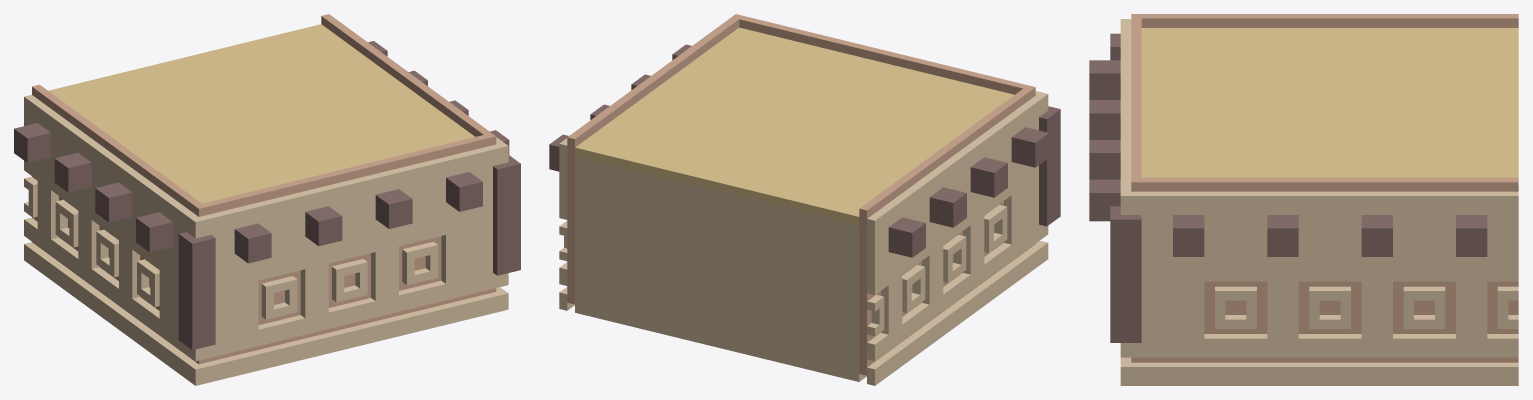
File: BS_Block_Base_End.fbx
3 renders of one model, left to right at view 1: azimuth 30°, elevation 25°; view 2: azimuth 150°, elevation 25°; view 3: azimuth 270°, elevation 25°, orthographic. The views are drawn at different scales.
Parts seen in each view (by area): view 1: BS_Block_Base_End; view 2: BS_Block_Base_End; view 3: BS_Block_Base_End.
Part boxes in pixels (x1,y1,x2,y2): BS_Block_Base_End: (14, 14, 520, 385); BS_Block_Base_End: (549, 14, 1060, 385); BS_Block_Base_End: (1089, 14, 1518, 385).
Size of the model in its own units: 115 by 102 by 52.5.
